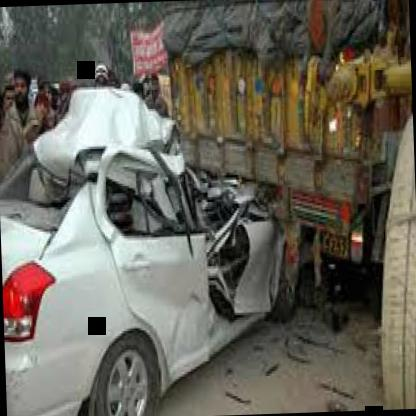accident: (0, 19, 341, 400)
